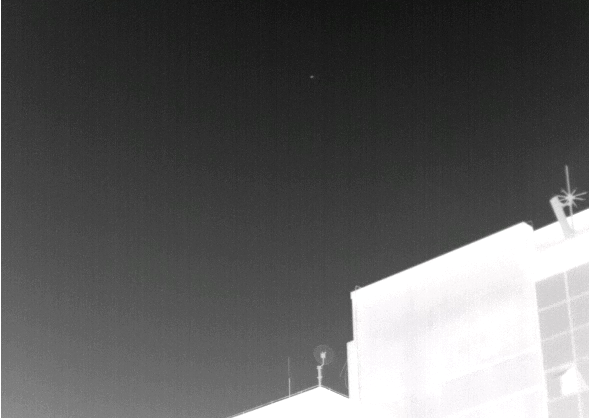dim target: (309, 74, 314, 79)
